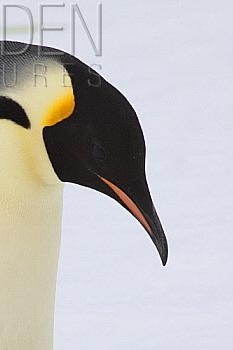Emperor Penguin: (0, 40, 177, 350)
